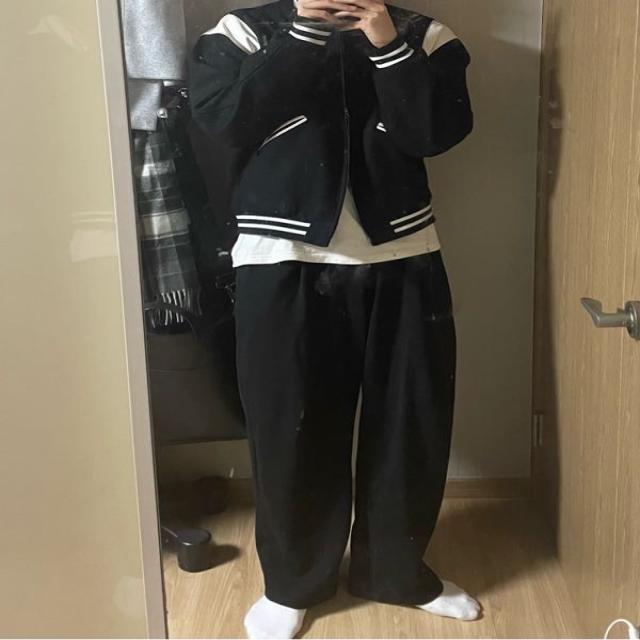jacket: (194, 1, 480, 260)
slacks: (232, 245, 458, 611)
